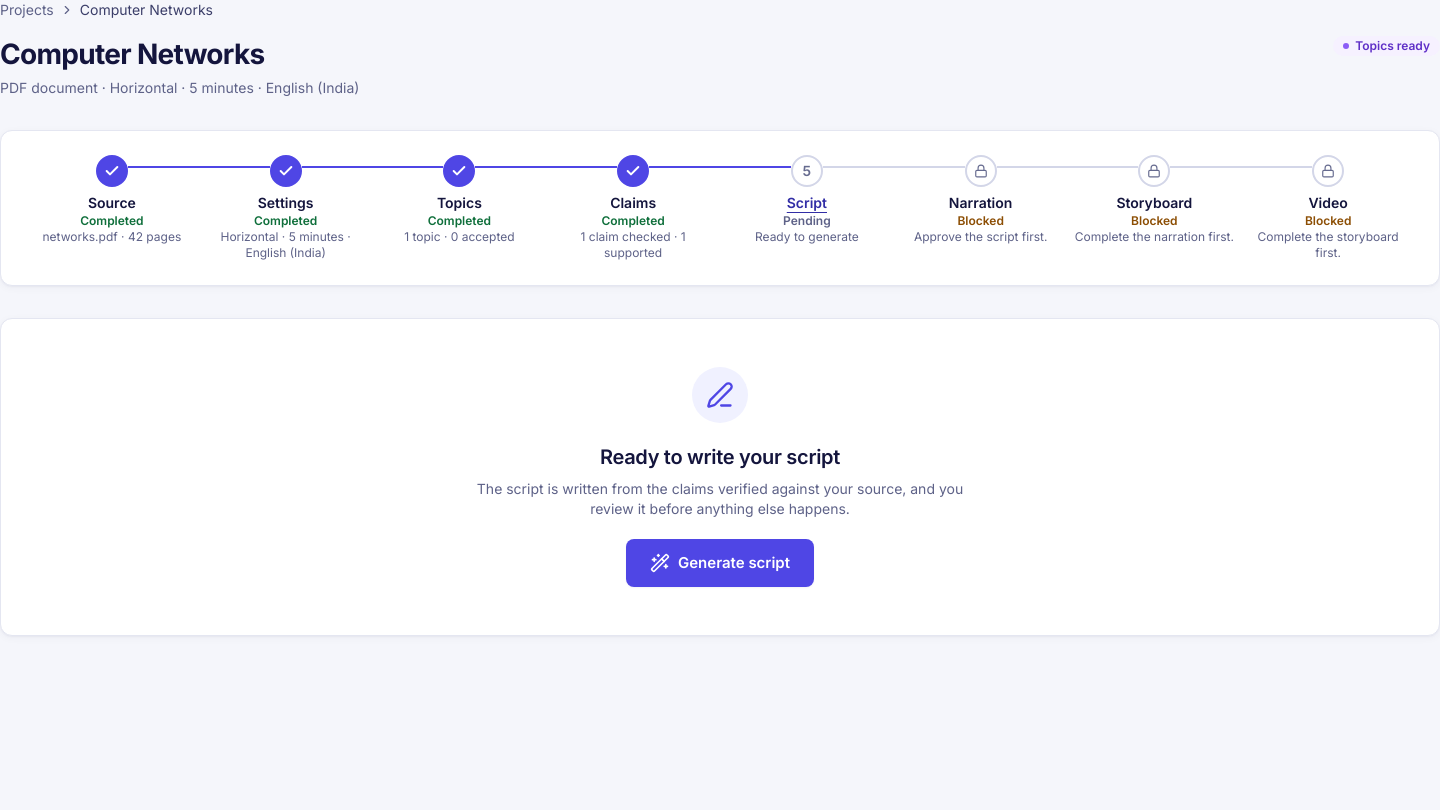
Script step › offers no shorter length when even the shortest video is more than the evidence can carry
Click the button "Generate script" at (720, 563), box [626,539,814,587]
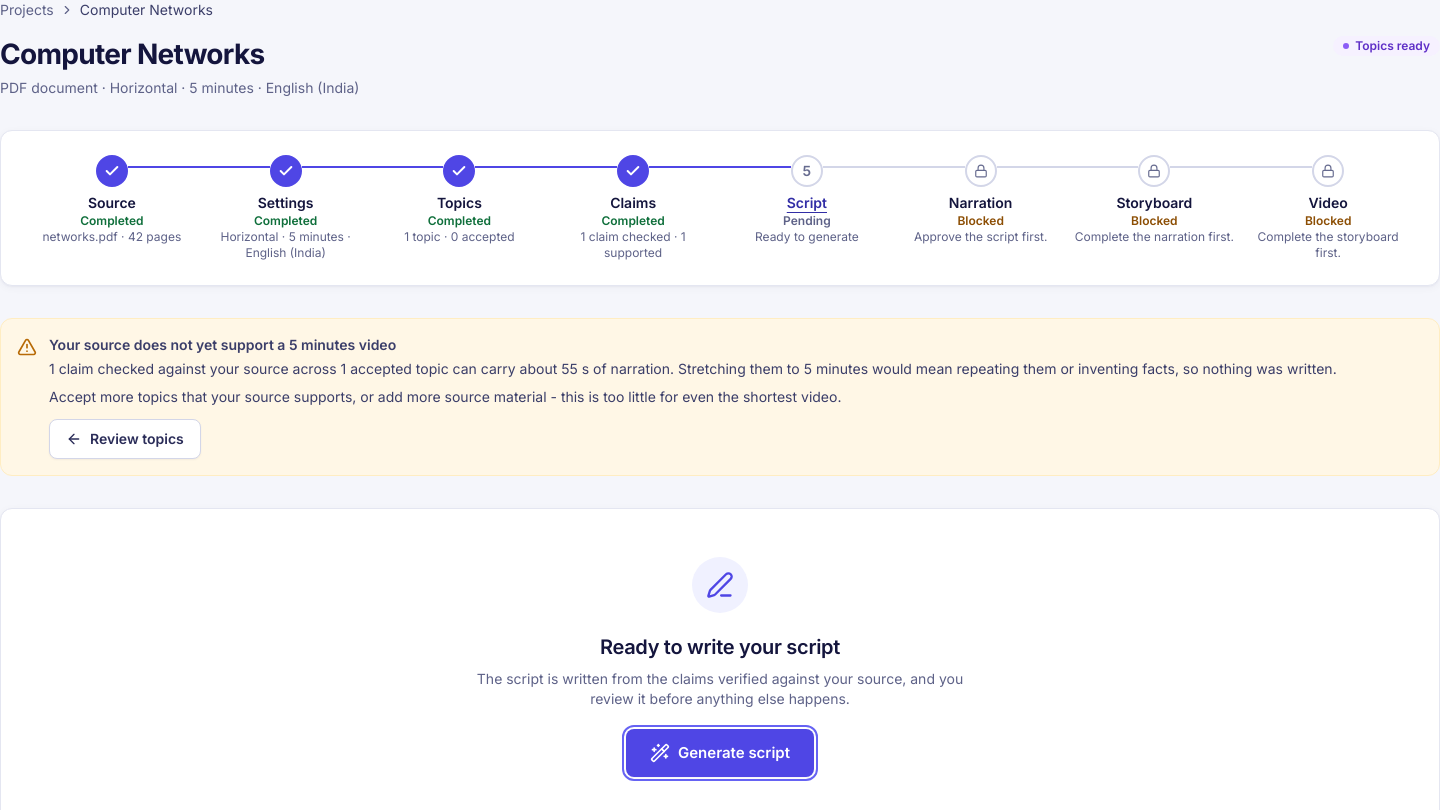
Result: the text "too little for even the shortest video" is shown at [49,388,842,405]
